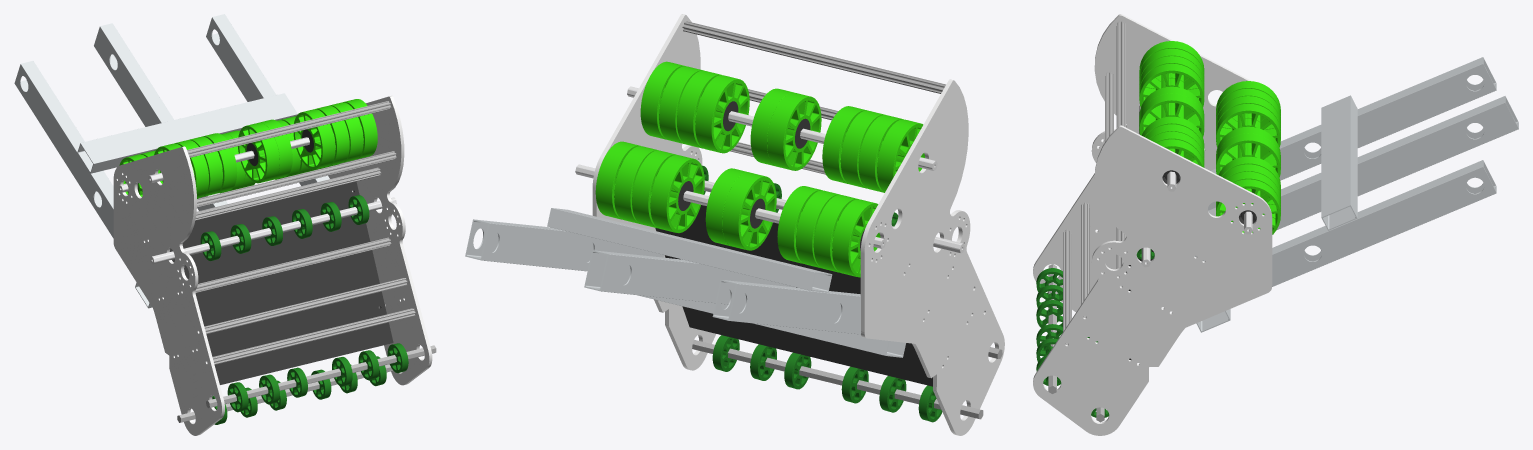
The picture shows the model from 3 angles, left to right: view 1: azimuth 30°, elevation 25°; view 2: azimuth 150°, elevation 25°; view 3: azimuth 270°, elevation 25°; orthographic projection. The views are drawn at different scales.
Visible parts, largest first — view 1: floor:1, ArmMoveComponent:1, intakev5 v6:1, intakev5 v6:2, churro:4, churro:1, churro:6, churro:3, churro:2, churro:5, 4IN Compliant Wheel FINAL Overmold:5, 4IN Compliant Wheel FINAL Overmold:10 (+23 smaller); view 2: intakev5 v6:1, ArmMoveComponent:1, floor:1, intakev5 v6:2, churro:4, 4IN Compliant Wheel FINAL Overmold:10, 4IN Compliant Wheel FINAL Overmold:11, 4IN Compliant Wheel FINAL Overmold:16, 4IN Compliant Wheel FINAL Overmold:5, 4IN Compliant Wheel FINAL Overmold:20, hexshaft:1, 4IN Compliant Wheel FINAL Overmold:1 (+23 smaller); view 3: intakev5 v6:2, ArmMoveComponent:1, intakev5 v6:1, 4IN Compliant Wheel FINAL Overmold:17, 4IN Compliant Wheel FINAL Overmold:4, 4IN Compliant Wheel FINAL Overmold:12, 4IN Compliant Wheel FINAL Overmold:9, churro:4, 4IN Compliant Wheel FINAL Overmold:14, churro:2, churro:1, 4IN Compliant Wheel FINAL Overmold:3 (+16 smaller).
Boxes of the visible parts, bbox=[...] form: floor:1: bbox=[169, 181, 393, 384]; ArmMoveComponent:1: bbox=[14, 14, 329, 308]; intakev5 v6:1: bbox=[113, 146, 224, 435]; intakev5 v6:2: bbox=[328, 96, 432, 385]; churro:4: bbox=[187, 101, 391, 157]; churro:1: bbox=[212, 308, 415, 364]; churro:6: bbox=[197, 151, 396, 207]; churro:3: bbox=[195, 237, 391, 292]; churro:2: bbox=[204, 278, 407, 333]; churro:5: bbox=[195, 167, 380, 220]; 4IN Compliant Wheel FINAL Overmold:5: bbox=[293, 109, 335, 169]; 4IN Compliant Wheel FINAL Overmold:10: bbox=[238, 122, 279, 183]; intakev5 v6:1: bbox=[860, 79, 1004, 435]; ArmMoveComponent:1: bbox=[465, 208, 905, 357]; floor:1: bbox=[655, 205, 932, 386]; intakev5 v6:2: bbox=[592, 14, 715, 370]; churro:4: bbox=[682, 21, 945, 93]; 4IN Compliant Wheel FINAL Overmold:10: bbox=[767, 92, 821, 170]; 4IN Compliant Wheel FINAL Overmold:11: bbox=[722, 172, 776, 250]; 4IN Compliant Wheel FINAL Overmold:16: bbox=[650, 155, 704, 233]; 4IN Compliant Wheel FINAL Overmold:5: bbox=[695, 75, 749, 153]; 4IN Compliant Wheel FINAL Overmold:20: bbox=[832, 199, 880, 277]; hexshaft:1: bbox=[692, 339, 983, 419]; 4IN Compliant Wheel FINAL Overmold:1: bbox=[877, 119, 924, 192]; intakev5 v6:2: bbox=[1033, 125, 1272, 435]; ArmMoveComponent:1: bbox=[1194, 57, 1518, 332]; intakev5 v6:1: bbox=[1033, 14, 1251, 311]; 4IN Compliant Wheel FINAL Overmold:17: bbox=[1216, 103, 1280, 147]; 4IN Compliant Wheel FINAL Overmold:4: bbox=[1139, 63, 1204, 107]; 4IN Compliant Wheel FINAL Overmold:12: bbox=[1216, 133, 1280, 177]; 4IN Compliant Wheel FINAL Overmold:9: bbox=[1139, 93, 1204, 136]; churro:4: bbox=[1116, 21, 1125, 127]; 4IN Compliant Wheel FINAL Overmold:14: bbox=[1216, 179, 1280, 234]; churro:2: bbox=[1081, 202, 1089, 317]; churro:1: bbox=[1063, 229, 1071, 344]; 4IN Compliant Wheel FINAL Overmold:3: bbox=[1139, 56, 1204, 100].
Size of the model in its own units: 0.4994 by 0.533 by 0.7598.
